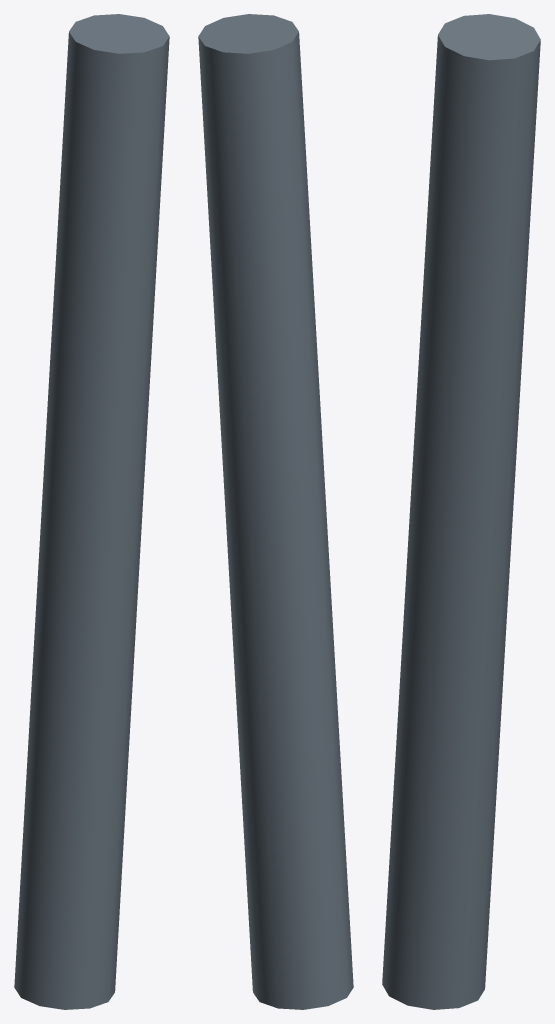
Rendered from perseverance_power_comms.uhf.glb.
3 renders of one model, left to right at view 1: azimuth 30°, elevation 25°; view 2: azimuth 150°, elevation 25°; view 3: azimuth 330°, elevation 25°, orthographic. The views are drawn at different scales.
Parts seen in each view (by area): view 1: perseverance_power_comms.uhf.mesh_Machined_steel; view 2: perseverance_power_comms.uhf.mesh_Machined_steel; view 3: perseverance_power_comms.uhf.mesh_Machined_steel.
Boxes of the visible parts, box(x1,y1,x2,y2) form: perseverance_power_comms.uhf.mesh_Machined_steel: box(14, 14, 169, 1009); perseverance_power_comms.uhf.mesh_Machined_steel: box(198, 14, 353, 1009); perseverance_power_comms.uhf.mesh_Machined_steel: box(382, 14, 540, 1009).
Size of the model in its own units: 0.0519 by 0.3319 by 0.032.
